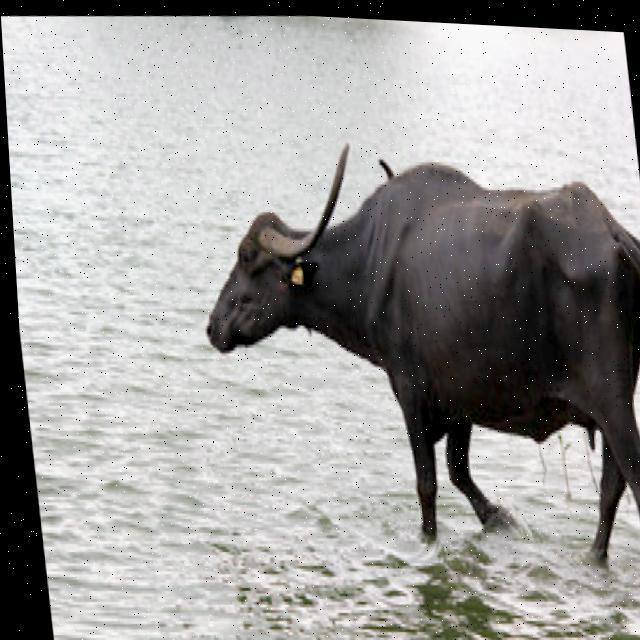Buffalo: (180, 113, 640, 615)
